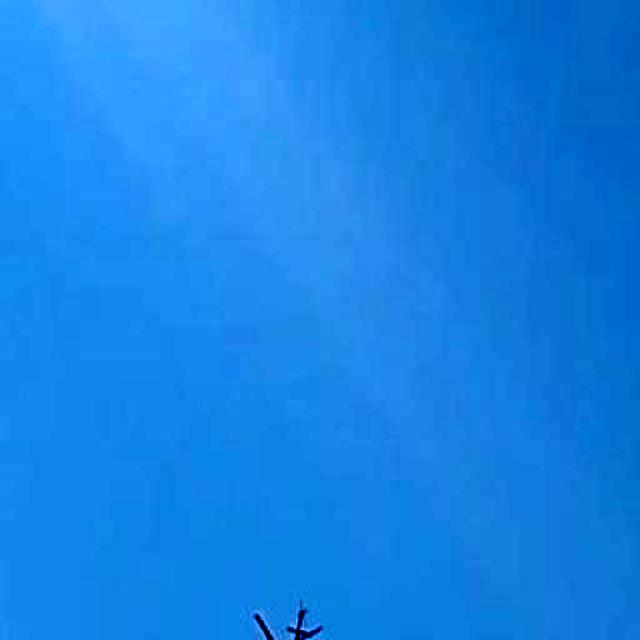drone: (210, 579, 352, 640)
